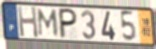3: (80, 9, 97, 42)
4: (100, 9, 117, 42)
5: (119, 10, 138, 44)
H: (17, 5, 41, 40)
M: (37, 8, 59, 38)
P: (59, 7, 79, 40)
